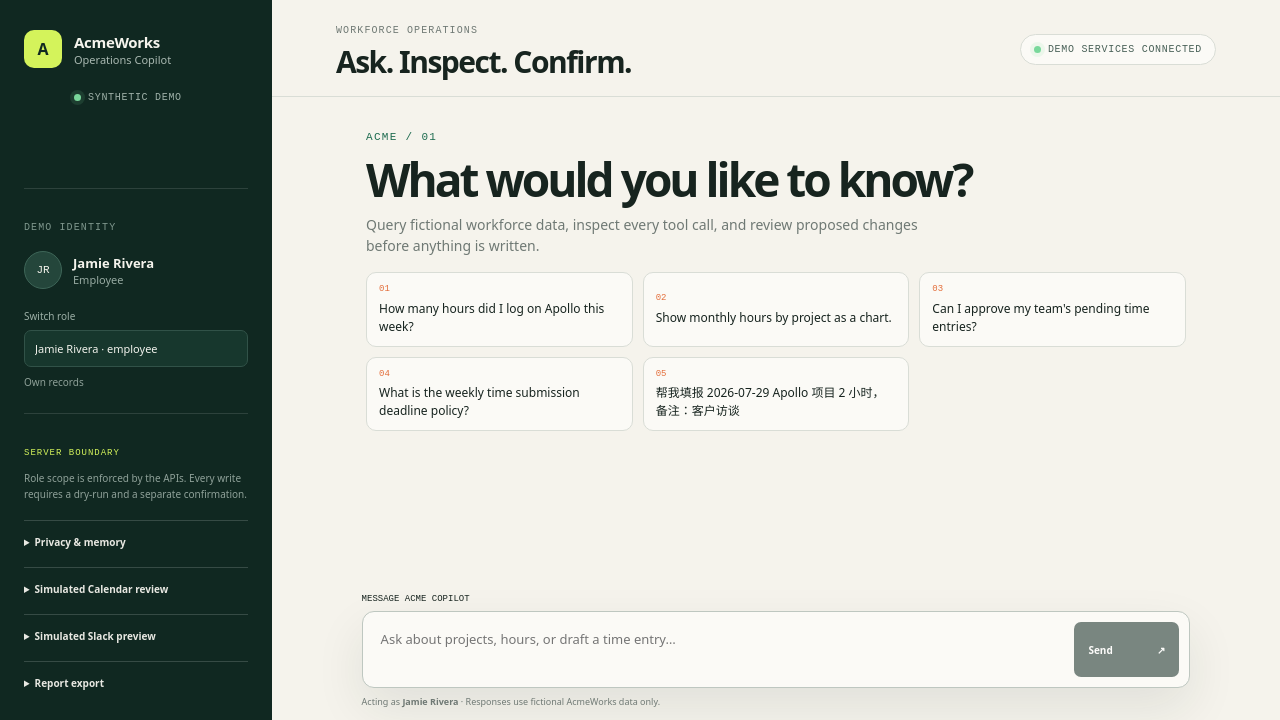
Test: ChatWorkspace › renders safe analytics rows and the declarative specification
Type "SQL analysis by status" into the text box labelled "Message Acme Copilot".
click(718, 650); type("SQL analysis by status")  # box [373, 622, 1062, 677]
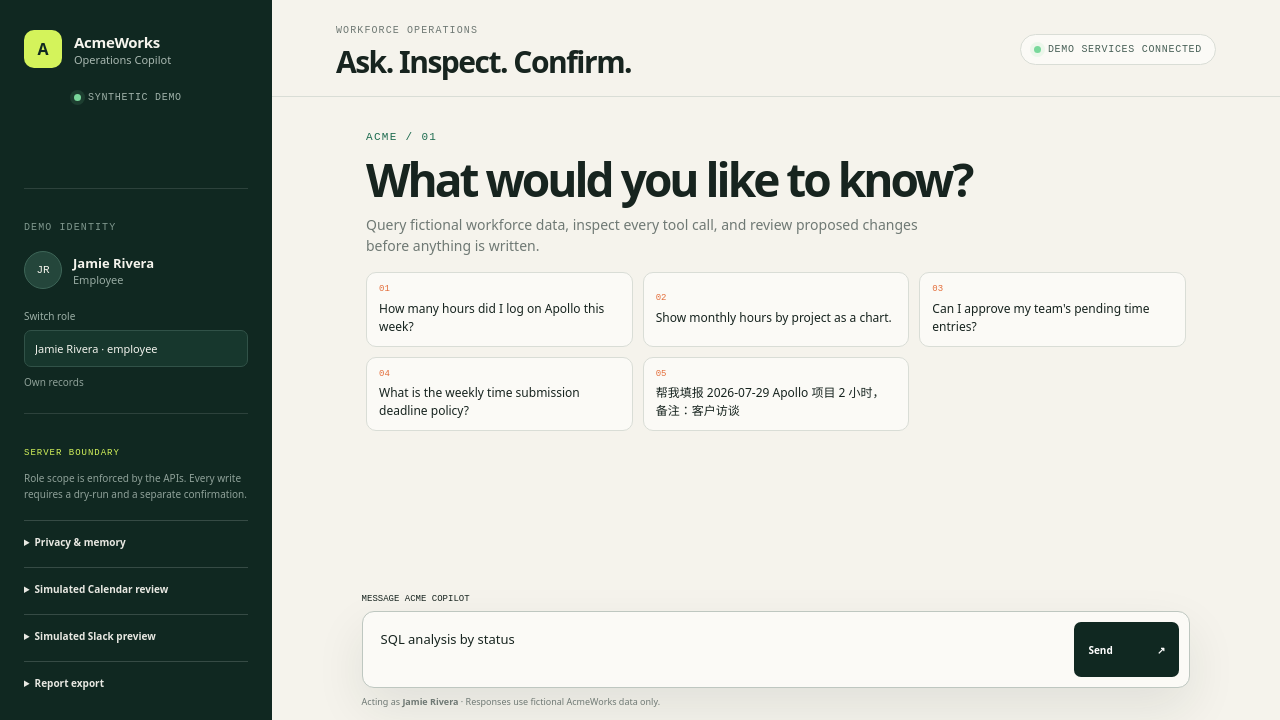
Click the button "Send ↗".
click(1127, 650)  # box [1074, 622, 1179, 677]
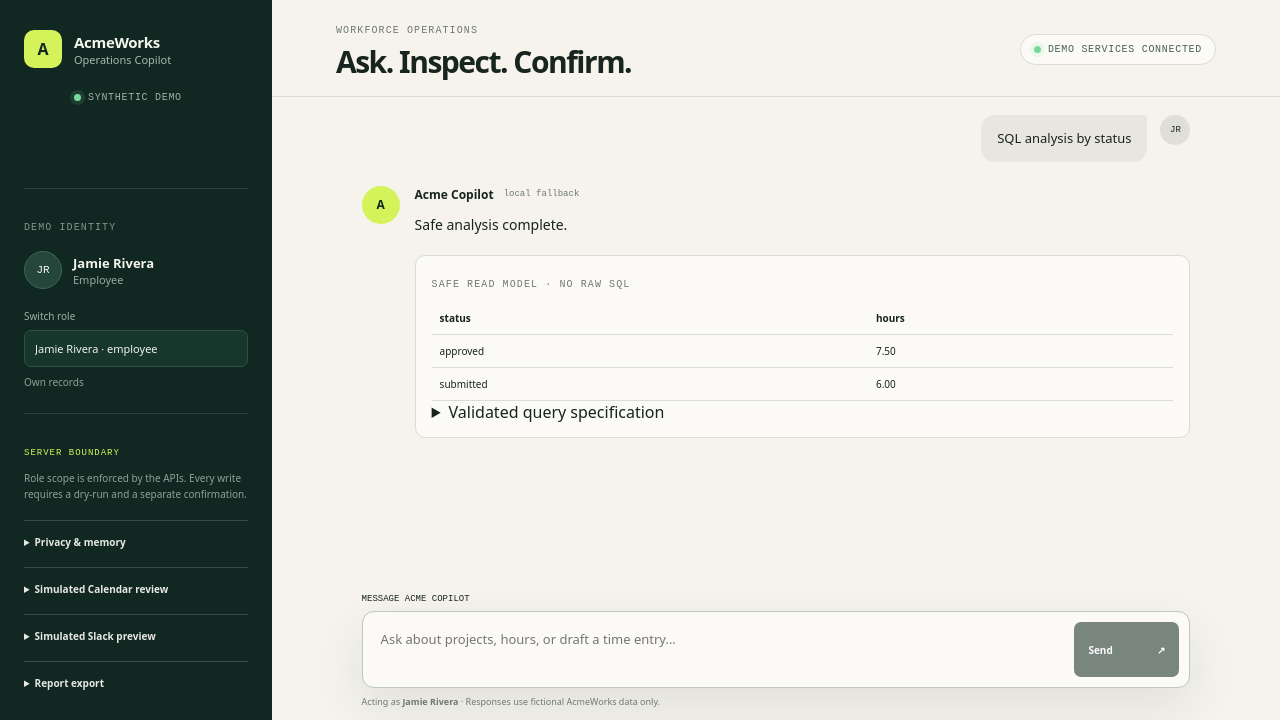
Check: the element named "Safe analytics result" is shown, box [415, 255, 1190, 438]
Check: the text "7.50" is shown, box [868, 335, 1174, 368]
Check: the text "SAFE READ MODEL · NO RAW SQL" is shown, box [432, 279, 630, 290]
